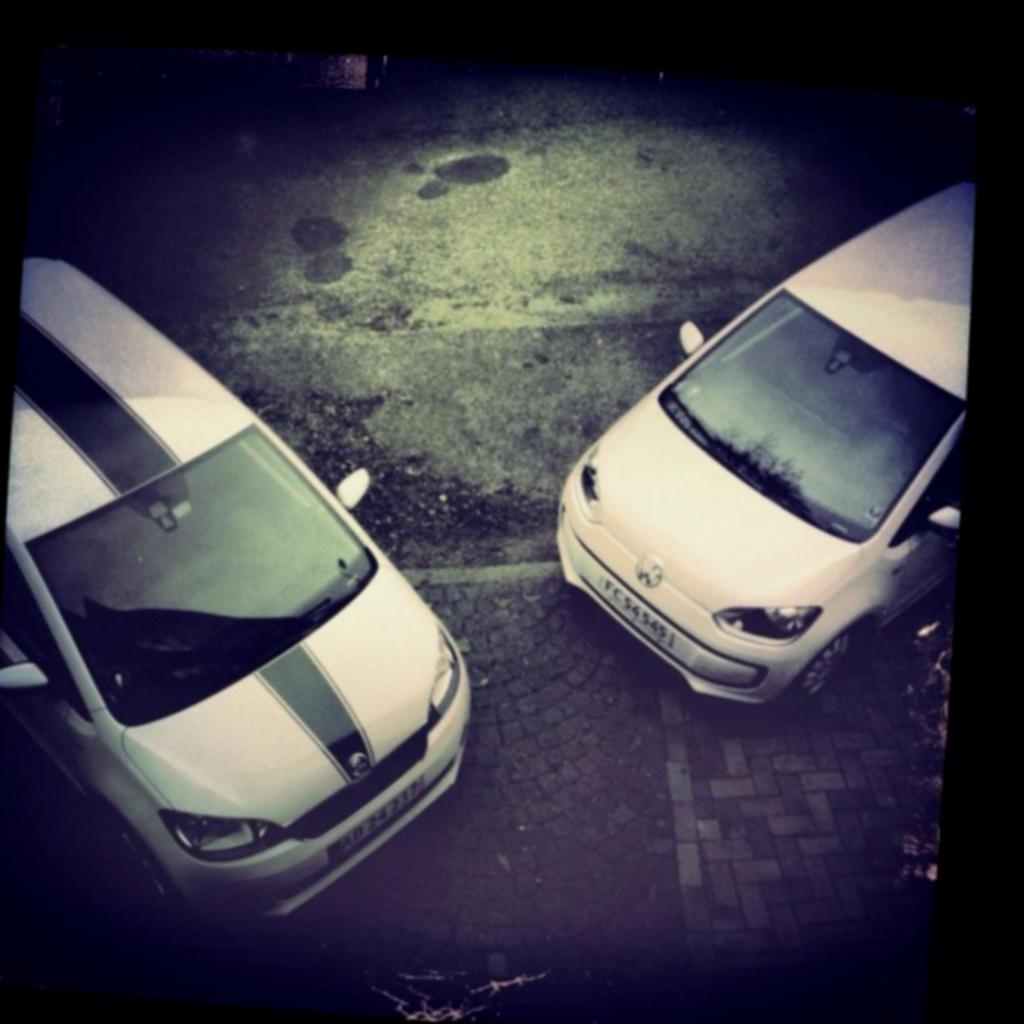License_Plate: (328, 763, 438, 872), (594, 564, 698, 666)
